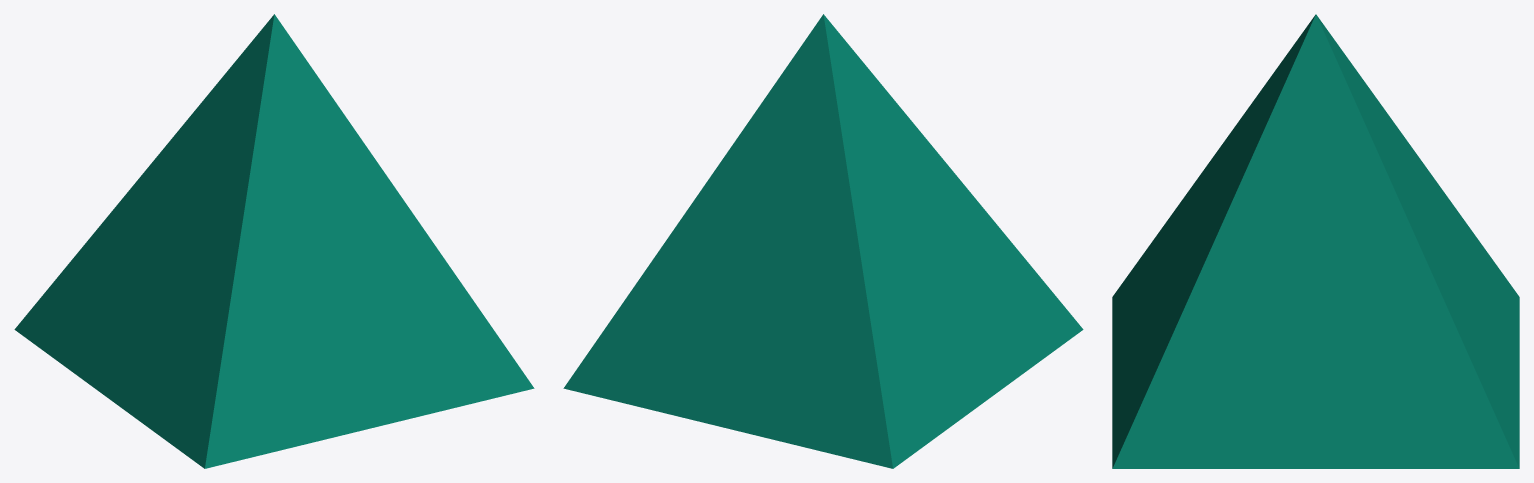
3 views of the same model, side by side, from view 1: azimuth 30°, elevation 25°; view 2: azimuth 150°, elevation 25°; view 3: azimuth 270°, elevation 25° (orthographic). The views are drawn at different scales.
Visible parts, largest first — view 1: Pyramid001; view 2: Pyramid001; view 3: Pyramid001.
Boxes of the visible parts, box(x1,y1,x2,y2) form: Pyramid001: box(14, 14, 534, 468); Pyramid001: box(563, 14, 1083, 468); Pyramid001: box(1112, 14, 1519, 468).
Bounding box in the file's own units: 100 × 100 × 100.
